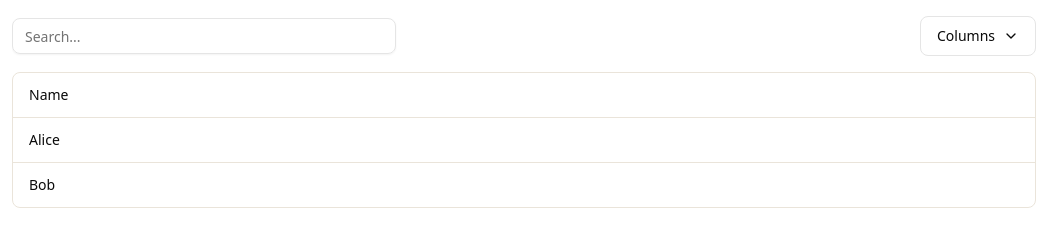
Test: DataTable › renders rows and filters by the search input
The width and height of the screenshot is (1048, 225).
Check: the column heading "Name" is shown, box [13,73,1035,118]
Check: the text "Alice" is shown, box [13,118,1035,162]
Type "Ali" into the field with placeholder "Search..." at (204, 36), box [12,18,396,54]
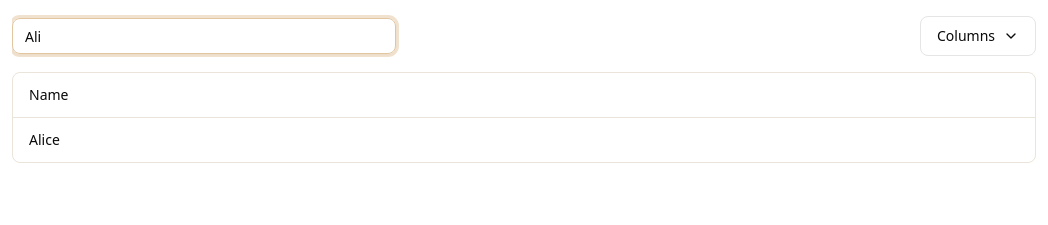
Check: the text "Alice" is shown, box [13,118,1035,162]
Check: the text "Bob" is gone
